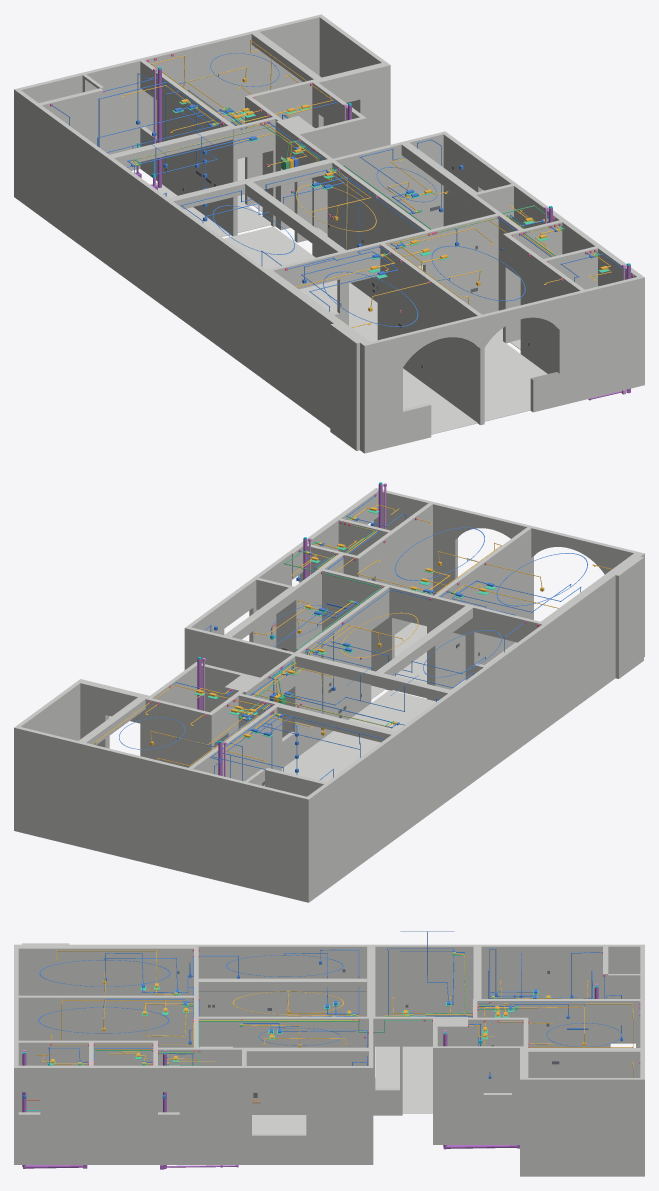
3 views of the same model, one above another, from view 1: azimuth 30°, elevation 25°; view 2: azimuth 150°, elevation 25°; view 3: azimuth 270°, elevation 25° (orthographic). The views are drawn at different scales.
Parts seen in each view (by area): view 1: layer-17, layer-15, layer-26, layer-6, layer-25, layer-27, layer-19, layer-33, layer-8, layer-5, layer-0, layer-28; view 2: layer-17, layer-15, layer-26, layer-6, layer-27, layer-25, layer-19, layer-33, layer-8, layer-5, layer-0; view 3: layer-17, layer-15, layer-26, layer-6, layer-27, layer-33, layer-19, layer-25, layer-8, layer-0, layer-28, layer-5 (+1 smaller).
Boxes of the visible parts, x1=… form: layer-17: x1=14, y1=14, x2=644, y2=453; layer-15: x1=150, y1=157, x2=547, y2=434; layer-26: x1=51, y1=73, x2=450, y2=311; layer-6: x1=123, y1=39, x2=611, y2=327; layer-25: x1=98, y1=81, x2=632, y2=281; layer-27: x1=136, y1=53, x2=525, y2=326; layer-19: x1=134, y1=107, x2=599, y2=257; layer-33: x1=136, y1=69, x2=630, y2=400; layer-8: x1=132, y1=108, x2=594, y2=257; layer-5: x1=186, y1=67, x2=480, y2=307; layer-0: x1=172, y1=101, x2=609, y2=278; layer-28: x1=127, y1=108, x2=594, y2=258; layer-17: x1=14, y1=488, x2=644, y2=902; layer-15: x1=282, y1=622, x2=516, y2=781; layer-26: x1=177, y1=558, x2=581, y2=780; layer-6: x1=94, y1=504, x2=612, y2=766; layer-27: x1=119, y1=527, x2=587, y2=772; layer-25: x1=171, y1=495, x2=515, y2=780; layer-19: x1=238, y1=516, x2=454, y2=726; layer-33: x1=197, y1=484, x2=382, y2=775; layer-8: x1=242, y1=517, x2=455, y2=727; layer-5: x1=150, y1=551, x2=542, y2=745; layer-0: x1=194, y1=510, x2=495, y2=738; layer-17: x1=14, y1=943, x2=644, y2=1176; layer-15: x1=198, y1=1046, x2=432, y2=1133; layer-26: x1=103, y1=931, x2=621, y2=1065; layer-6: x1=42, y1=950, x2=633, y2=1077; layer-27: x1=38, y1=931, x2=622, y2=1046; layer-33: x1=22, y1=987, x2=598, y2=1169; layer-19: x1=78, y1=952, x2=518, y2=1065; layer-25: x1=24, y1=948, x2=592, y2=1095; layer-8: x1=78, y1=952, x2=517, y2=1064; layer-0: x1=50, y1=986, x2=551, y2=1065; layer-28: x1=78, y1=951, x2=518, y2=1062; layer-5: x1=103, y1=972, x2=584, y2=1044.
Size of the model in its own units: 9.06 by 3.96 by 17.71.
